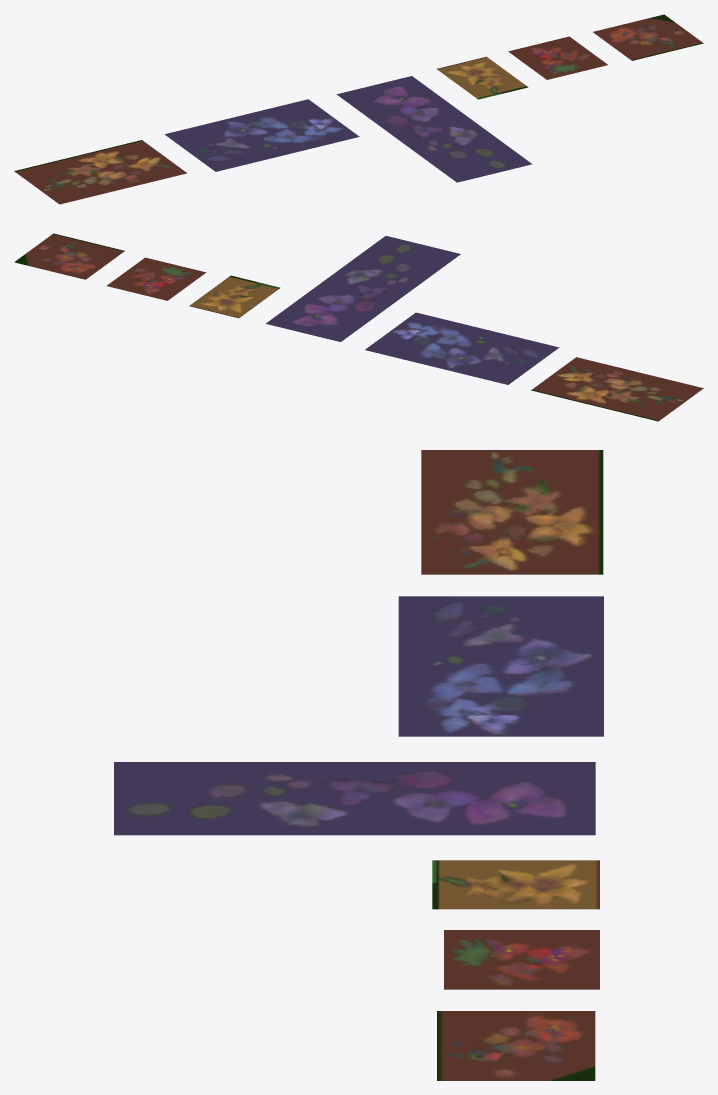
File: Dld_huaban.FBX
The picture shows the model from 3 angles, top to bottom: view 1: azimuth 30°, elevation 25°; view 2: azimuth 150°, elevation 25°; view 3: azimuth 270°, elevation 25°; orthographic projection. The views are drawn at different scales.
Parts seen in each view (by area): view 1: DLD_huaban_003, DLD_huaban_002, DLD_huaban_001, DLD_huaban_006, DLD_huaban_005, DLD_huaban_004; view 2: DLD_huaban_003, DLD_huaban_002, DLD_huaban_001, DLD_huaban_006, DLD_huaban_005, DLD_huaban_004; view 3: DLD_huaban_003, DLD_huaban_002, DLD_huaban_001, DLD_huaban_006, DLD_huaban_005, DLD_huaban_004.
Part boxes in pixels (left/top/right/bottom): DLD_huaban_003: left=337, top=76, right=532, bottom=182; DLD_huaban_002: left=165, top=99, right=359, bottom=171; DLD_huaban_001: left=14, top=140, right=186, bottom=204; DLD_huaban_006: left=593, top=14, right=703, bottom=60; DLD_huaban_005: left=508, top=36, right=607, bottom=79; DLD_huaban_004: left=437, top=56, right=528, bottom=99; DLD_huaban_003: left=266, top=236, right=460, bottom=341; DLD_huaban_002: left=365, top=312, right=559, bottom=384; DLD_huaban_001: left=531, top=357, right=703, bottom=421; DLD_huaban_006: left=14, top=233, right=124, bottom=279; DLD_huaban_005: left=107, top=257, right=206, bottom=300; DLD_huaban_004: left=189, top=275, right=280, bottom=318; DLD_huaban_003: left=114, top=762, right=595, bottom=835; DLD_huaban_002: left=398, top=596, right=603, bottom=736; DLD_huaban_001: left=421, top=450, right=603, bottom=574; DLD_huaban_006: left=437, top=1011, right=595, bottom=1080; DLD_huaban_005: left=444, top=930, right=599, bottom=989; DLD_huaban_004: left=432, top=860, right=599, bottom=909.
Size of the model in its own units: 1179 by 1.66e-05 by 387.
